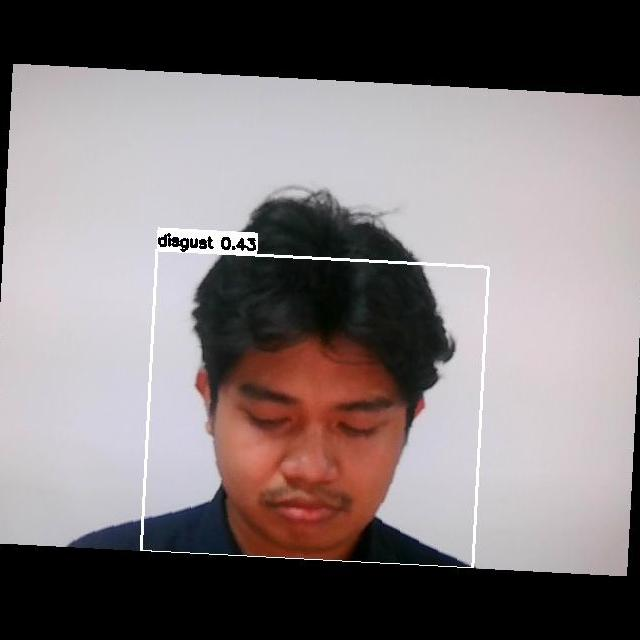Disgust: (214, 356, 409, 537)
